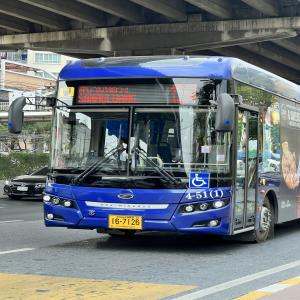Bus Line Number: (166, 82, 200, 105)
Bus Side Number: (184, 188, 224, 200)
Destination Sign: (74, 83, 140, 105)
TSB-Bus: (43, 55, 300, 243)
